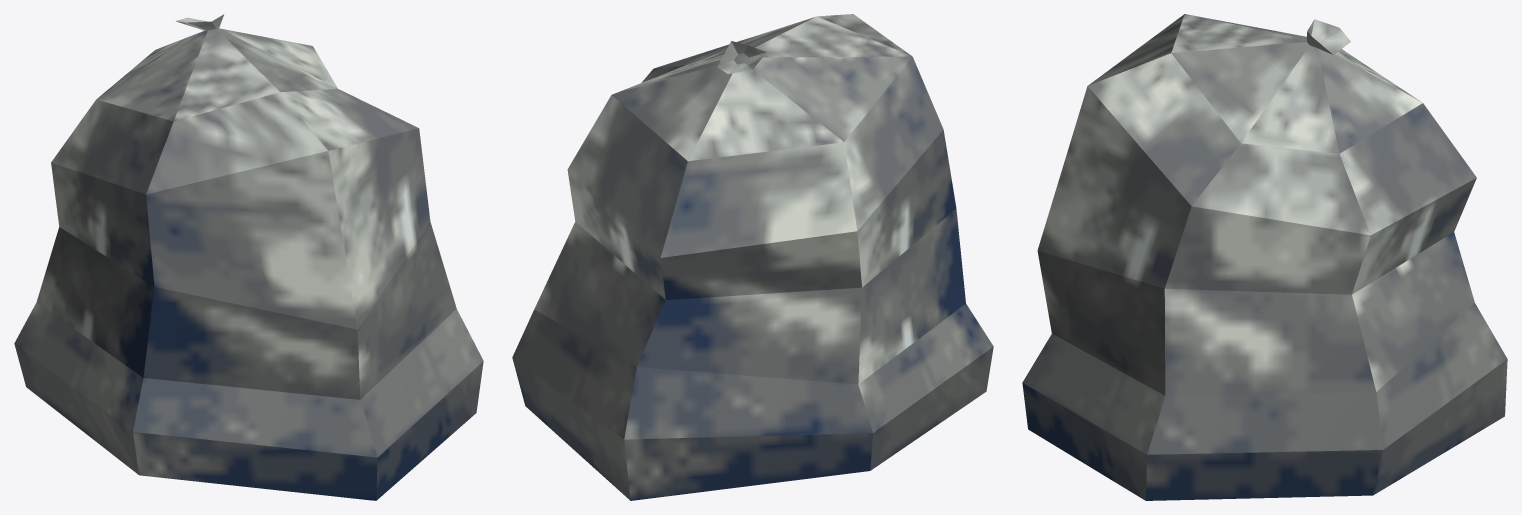
The model's file is Urban_Trashbag1White_Model.fbx.
The picture shows the model from 3 angles, left to right: view 1: azimuth 30°, elevation 25°; view 2: azimuth 150°, elevation 25°; view 3: azimuth 270°, elevation 25°; orthographic projection. The views are drawn at different scales.
Visible parts, largest first — view 1: Urban_Trashbag1White_Mesh; view 2: Urban_Trashbag1White_Mesh; view 3: Urban_Trashbag1White_Mesh.
Part boxes in pixels (x1,y1,x2,y2): Urban_Trashbag1White_Mesh: (14,14,483,500); Urban_Trashbag1White_Mesh: (512,14,993,500); Urban_Trashbag1White_Mesh: (1022,14,1507,500).
Bounding box in the file's own units: 0.7709 × 0.8094 × 0.9171.
